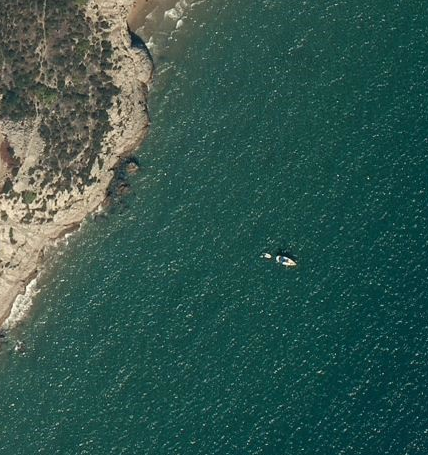ship: (261, 246, 299, 271)
